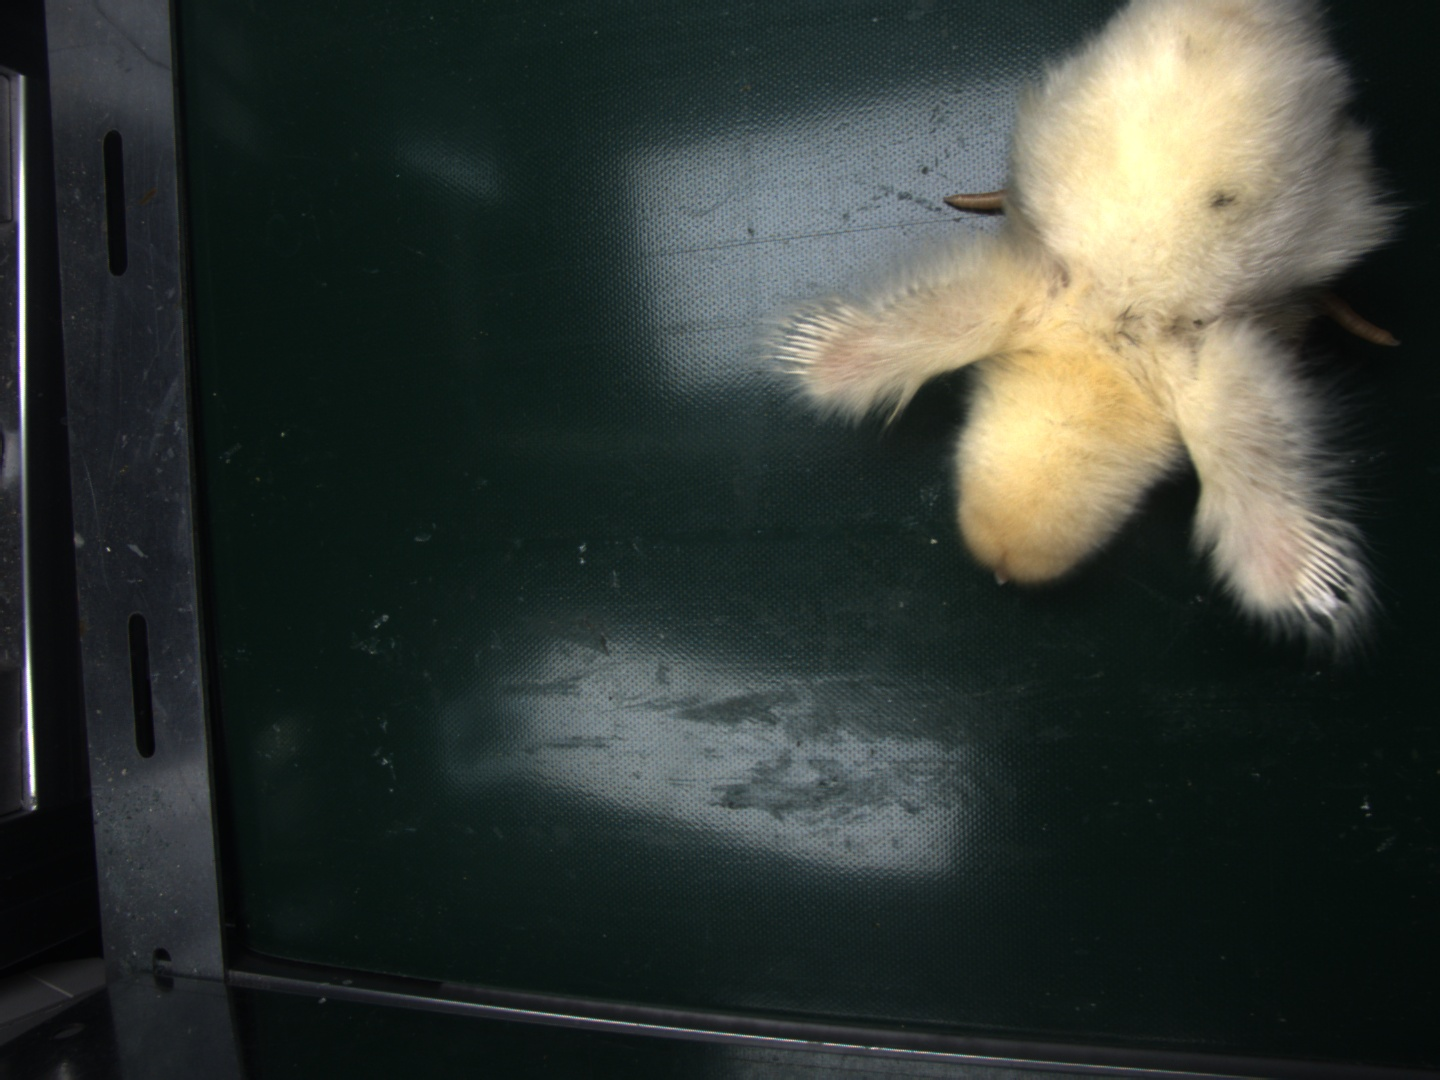male: (771, 292, 858, 373)
